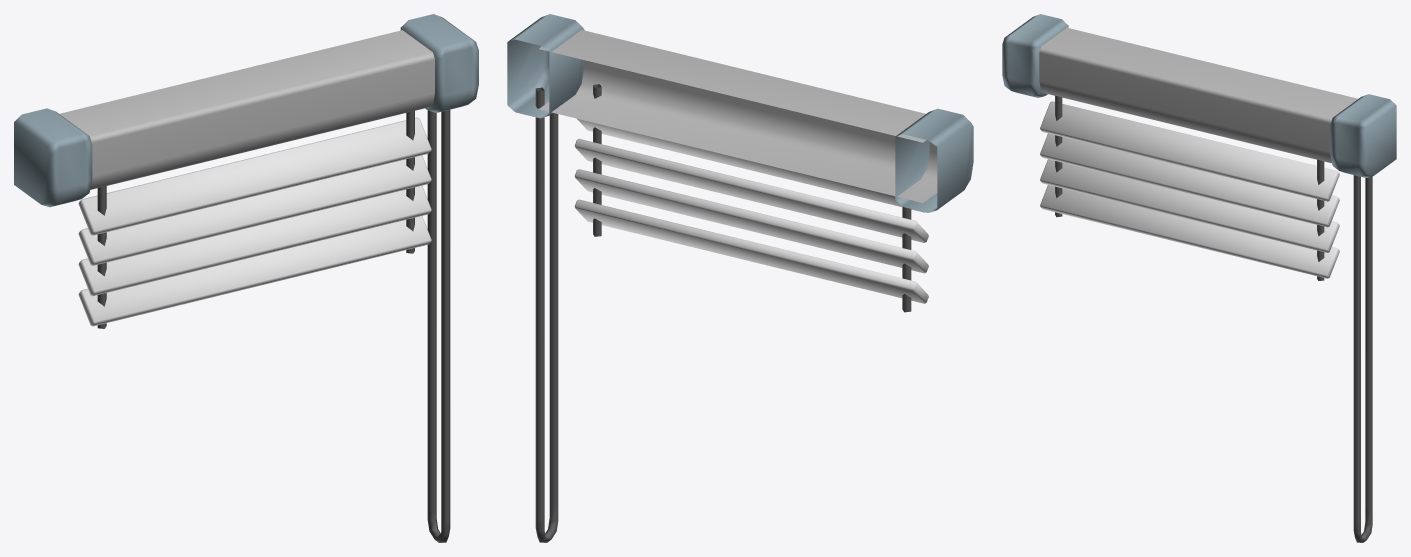
File: curtain_014.fbx
3 renders of one model, left to right at view 1: azimuth 30°, elevation 25°; view 2: azimuth 150°, elevation 25°; view 3: azimuth 330°, elevation 25°, orthographic. The views are drawn at different scales.
Parts seen in each view (by area): view 1: curtain_014; view 2: curtain_014; view 3: curtain_014.
Part boxes in pixels (x1=…): curtain_014: x1=14, y1=14, x2=478, y2=542; curtain_014: x1=507, y1=14, x2=973, y2=542; curtain_014: x1=1002, y1=14, x2=1396, y2=542.
Bounding box in the file's own units: 200 × 30.34 × 229.
